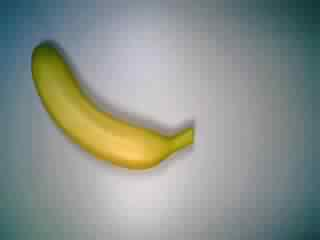banana: (28, 40, 196, 174)
